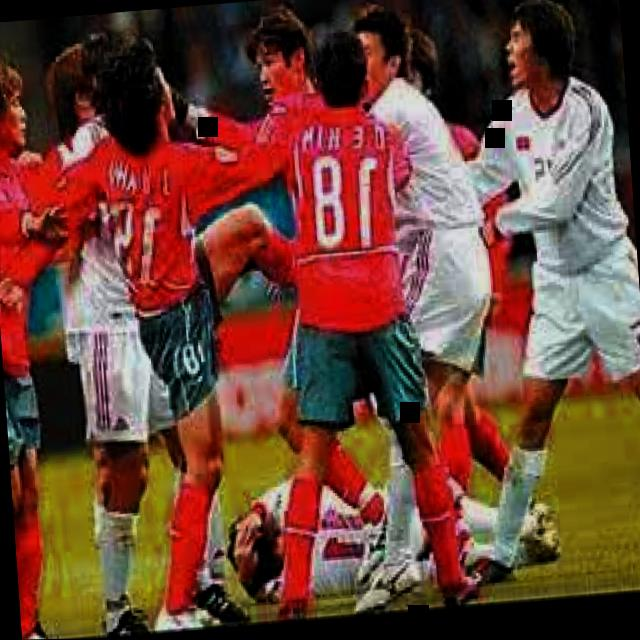Fall-Detected: (212, 424, 588, 612)
